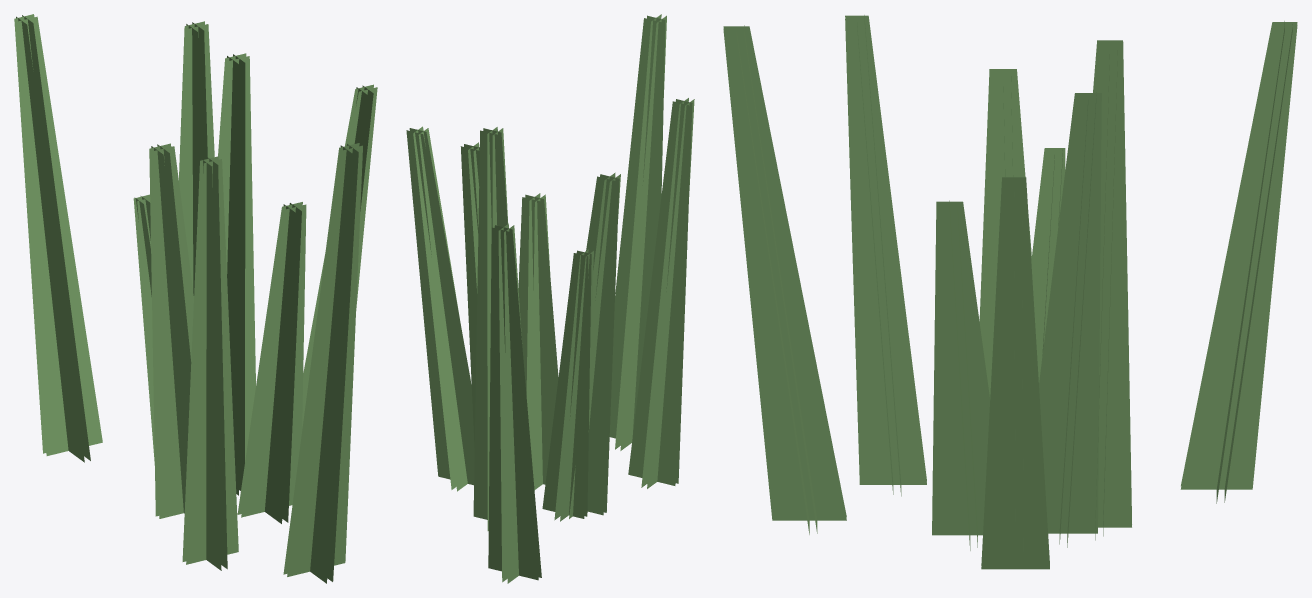
Rendered from grass_tuft_lush.glb.
3 views of the same model, side by side, from view 1: azimuth 30°, elevation 25°; view 2: azimuth 150°, elevation 25°; view 3: azimuth 270°, elevation 25° (orthographic). The views are drawn at different scales.
Parts seen in each view (by area): view 1: grass_tuft_lush; view 2: grass_tuft_lush; view 3: grass_tuft_lush.
Boxes of the visible parts, x1,y1,x2,y2 form: grass_tuft_lush: (14,14,377,583); grass_tuft_lush: (406,14,694,583); grass_tuft_lush: (723,15,1297,569).
Size of the model in its own units: 0.2394 by 0.4142 by 0.4373.
